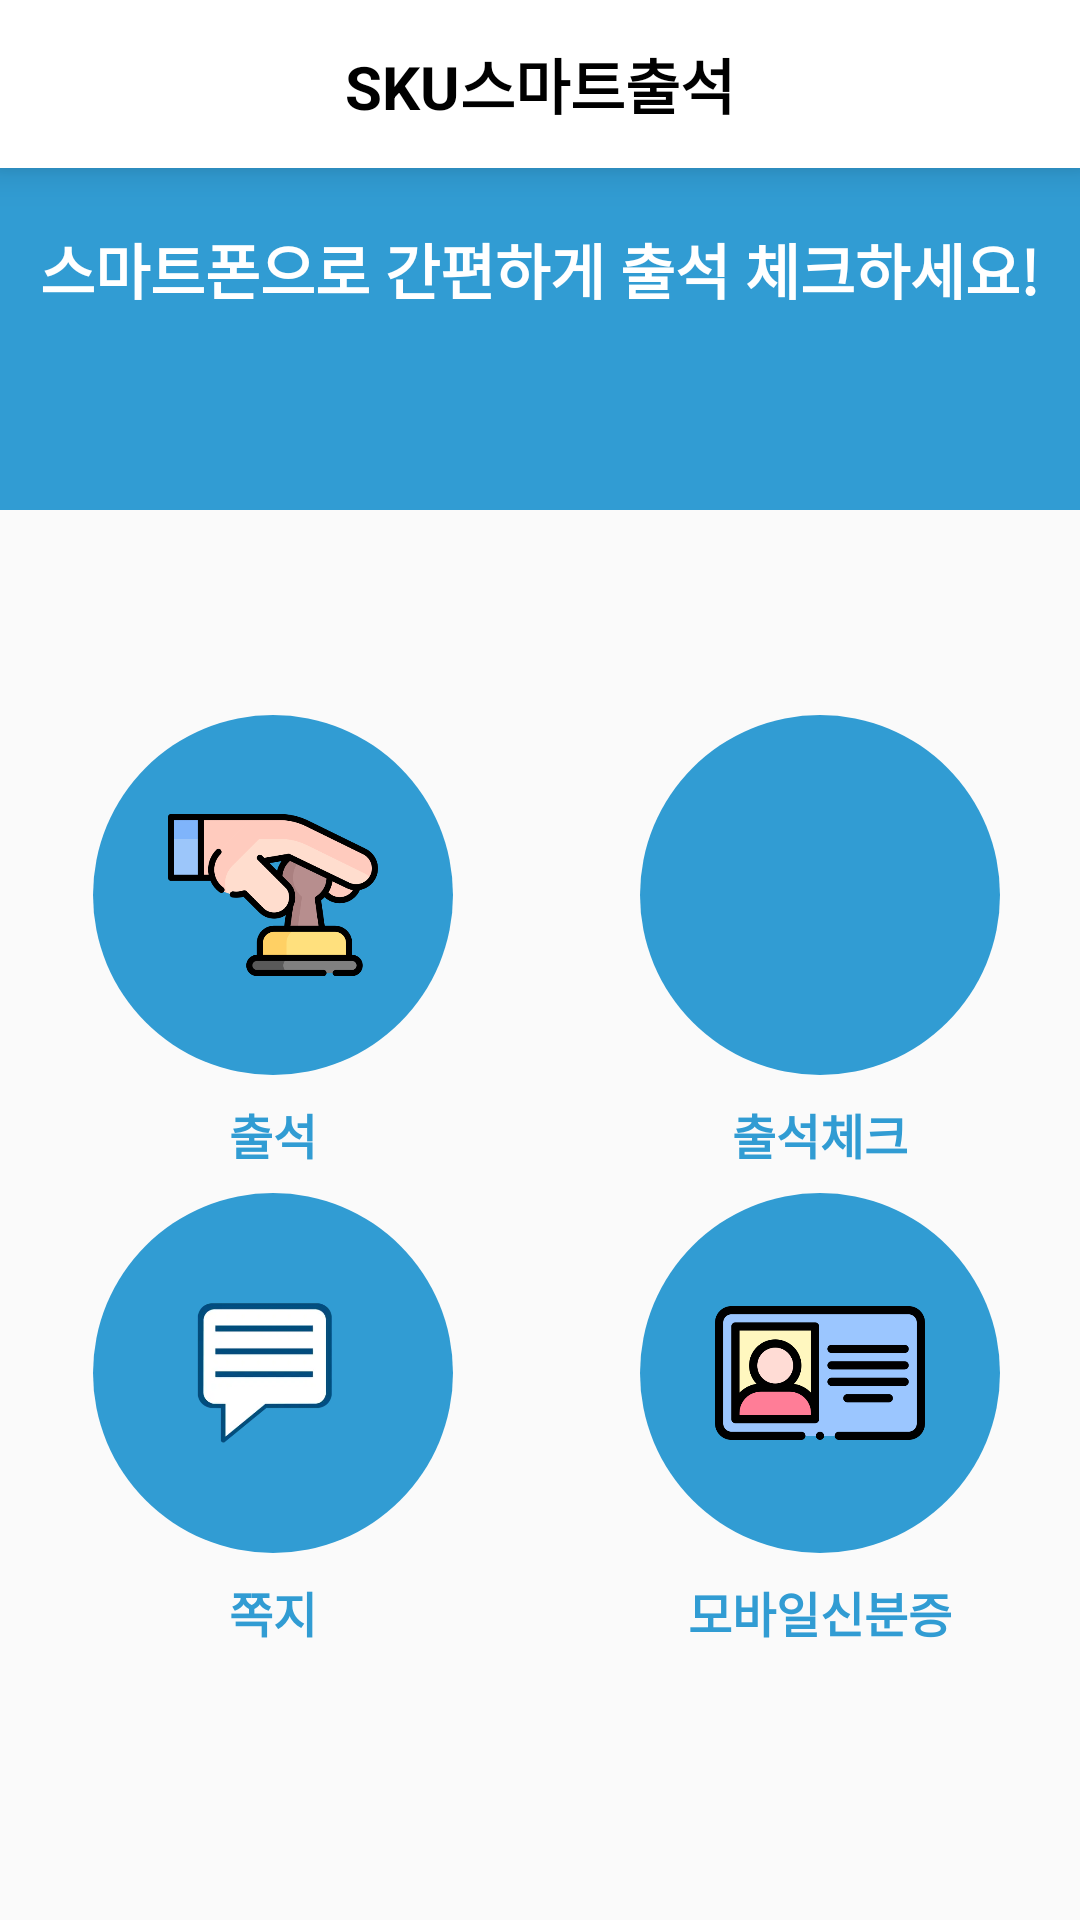

Icons on this 1080w x 1920h Android screen, each with its box as box(x1, y1, x2, y2):
메시지: box(198, 1303, 332, 1443)
아이디: box(715, 1306, 925, 1440)
